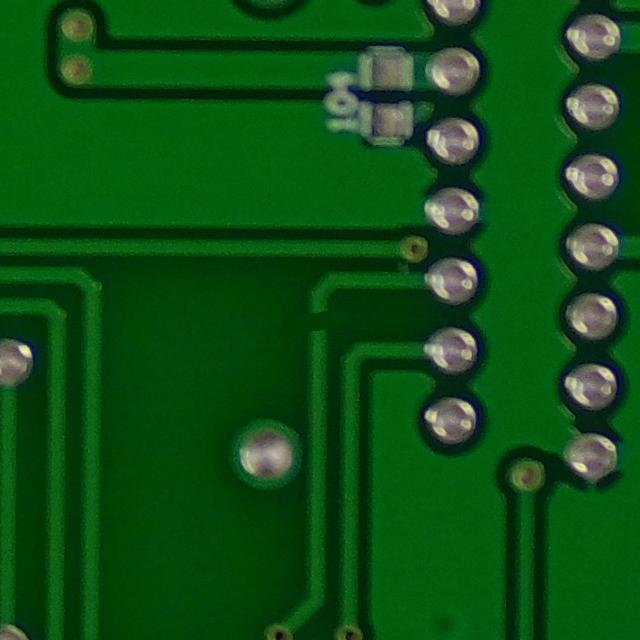open_circuit: (302, 298, 338, 343)
